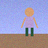person: (21, 7, 38, 36)
